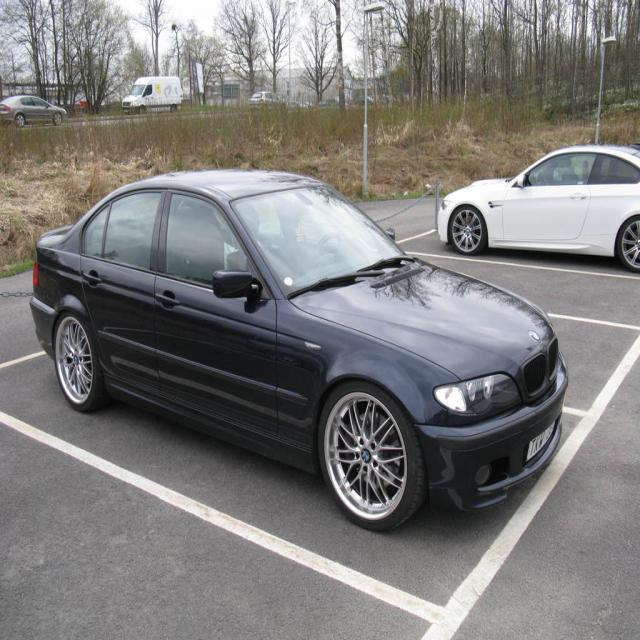car: (26, 170, 566, 533)
